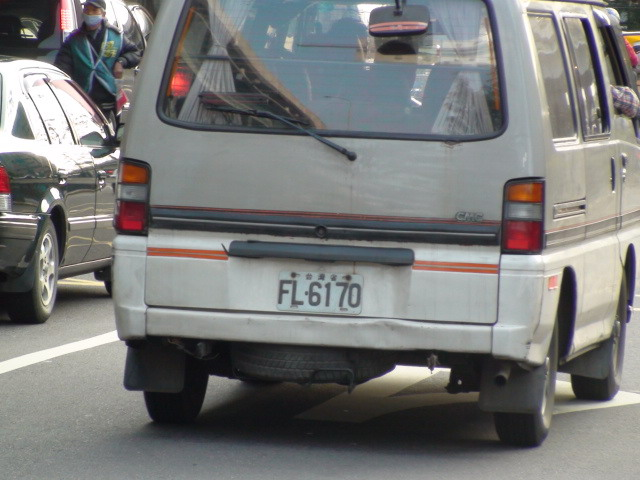plate: (276, 268, 365, 317)
